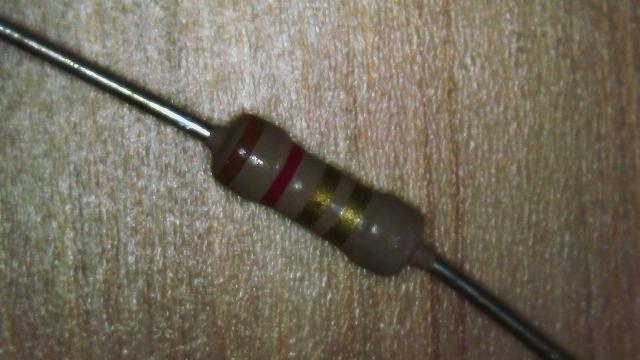brown: (216, 116, 264, 187)
gold: (330, 180, 374, 243), (298, 165, 341, 228)
red: (260, 144, 306, 208)
resistor: (168, 81, 458, 300)
